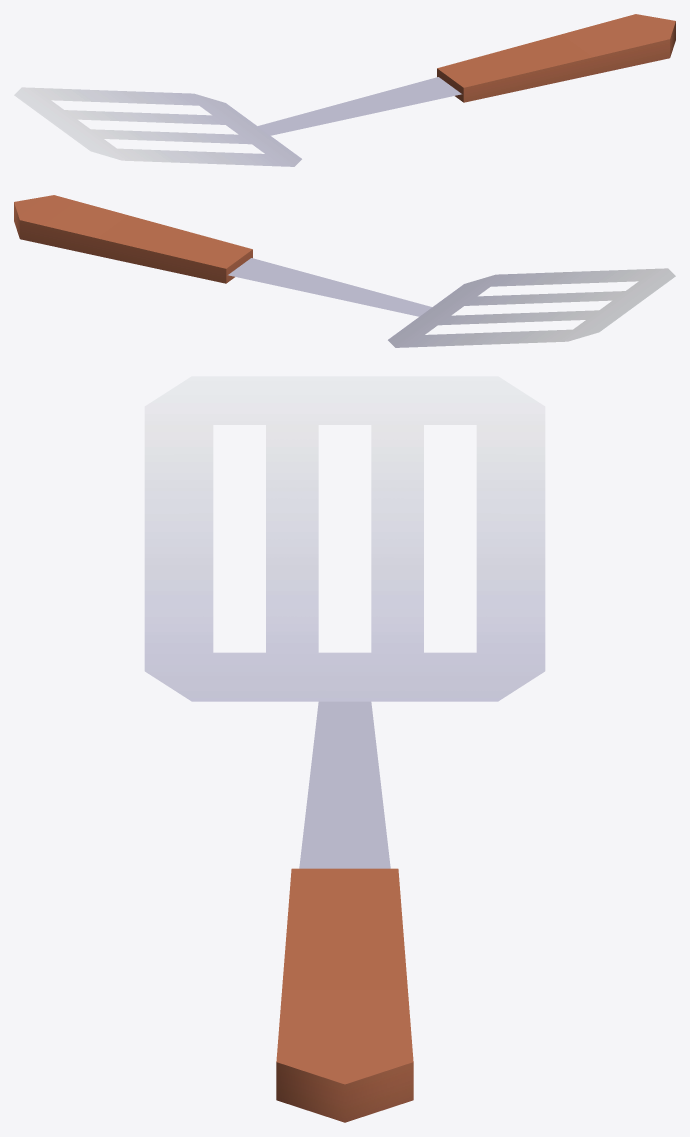
Rendered from spatel.glb.
3 renders of one model, top to bottom at view 1: azimuth 30°, elevation 25°; view 2: azimuth 150°, elevation 25°; view 3: azimuth 270°, elevation 25°, orthographic. The views are drawn at different scales.
Visible parts, largest first — view 1: cooking-spatula; view 2: cooking-spatula; view 3: cooking-spatula.
Part boxes in pixels (x1,y1,x2,y2): cooking-spatula: (14,14,675,166); cooking-spatula: (14,195,675,347); cooking-spatula: (144,376,545,1122).
Size of the model in its own units: 0.6827 by 0.0721 by 0.19.
Materials: 1 (1 with a texture image).
